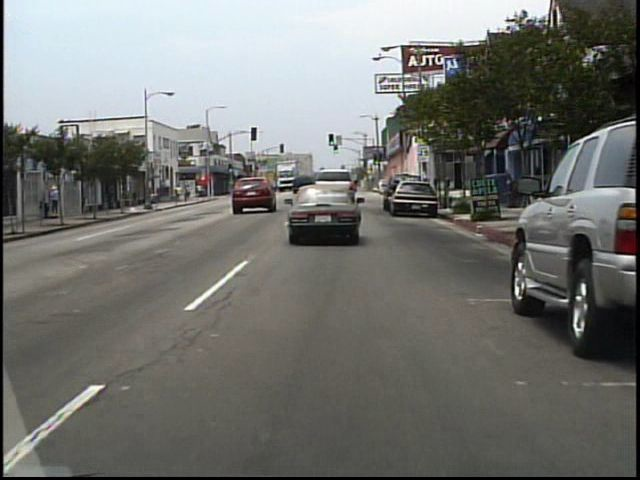person: (52, 183, 63, 218), (176, 184, 183, 203), (185, 184, 190, 202)
